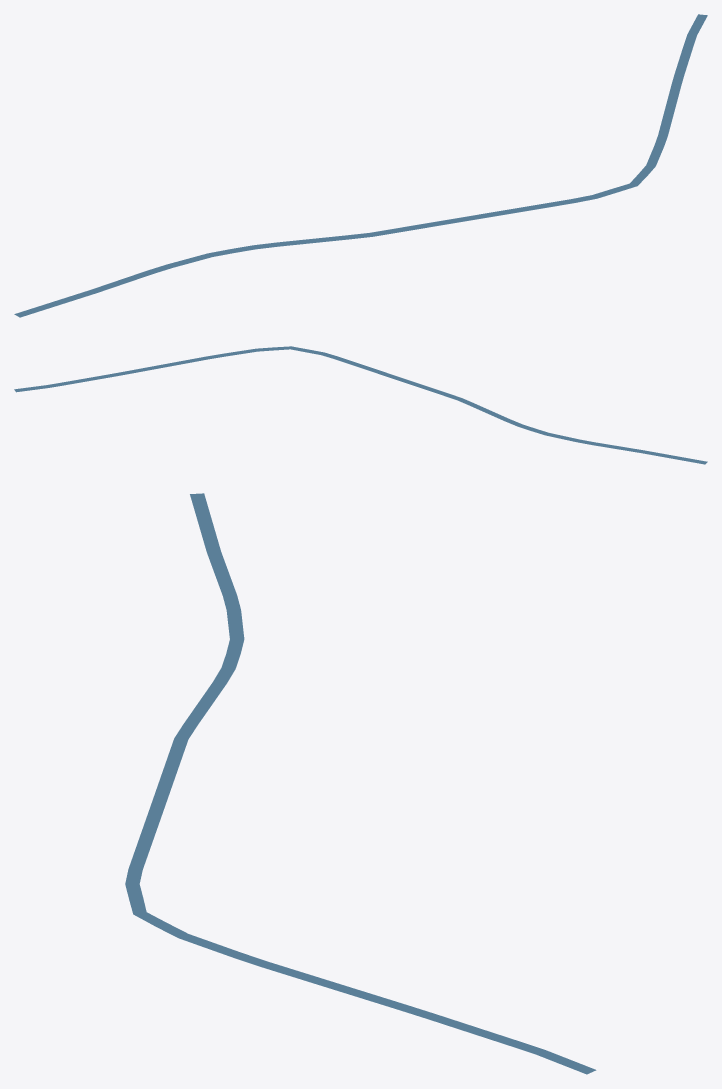
File: c_1640_17836_water.glb
3 views of the same model, one above another, from view 1: azimuth 30°, elevation 25°; view 2: azimuth 150°, elevation 25°; view 3: azimuth 270°, elevation 25° (orthographic). The views are drawn at different scales.
Visible parts, largest first — view 1: geometry_0; view 2: geometry_0; view 3: geometry_0.
Part boxes in pixels (bbox=[...]): geometry_0: bbox=[14, 14, 707, 317]; geometry_0: bbox=[14, 346, 707, 464]; geometry_0: bbox=[125, 493, 596, 1074].
Bounding box in the file's own units: 237 × 0 × 81.33.
